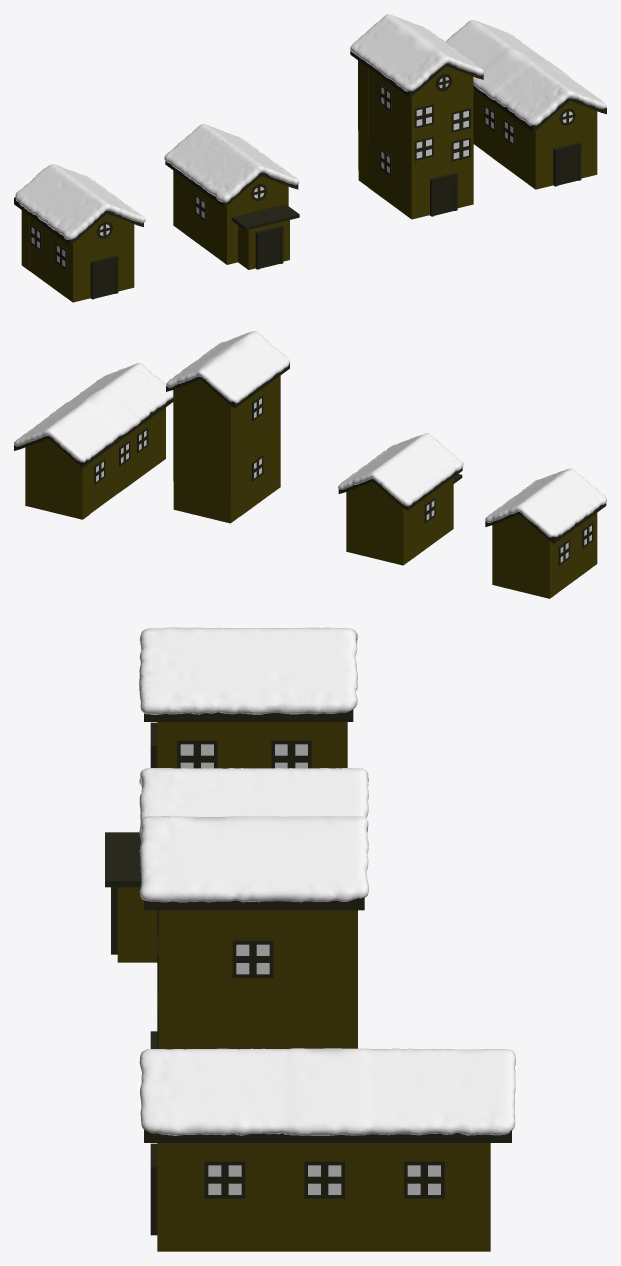
Rendered from modular_houses (1).fbx.
The picture shows the model from 3 angles, top to bottom: view 1: azimuth 30°, elevation 25°; view 2: azimuth 150°, elevation 25°; view 3: azimuth 270°, elevation 25°; orthographic projection. The views are drawn at different scales.
Parts seen in each view (by area): view 1: SnowBall.004, Cube.025, SnowBall.001, SnowBall.003, SnowBall.002, Cube.039, Cube, Cube.007, Cube.034, Cube.020, Cube.031, Cube.045 (+21 smaller); view 2: Cube.036, SnowBall.004, SnowBall.001, SnowBall.003, Cube.016, Cube.004, SnowBall.002, Cube.041, Cube.034, Cube.020, Cube.048, Cube.031 (+9 smaller); view 3: SnowBall.004, SnowBall.003, SnowBall.002, Cube.047, Cube.028, Cube.042, SnowBall.001, Cube.036, Cube.005, Cube.025, Cube.035, Cube.039 (+14 smaller).
Boxes of the visible parts, box(x1,y1,x2,y2) form: SnowBall.004: box(445, 20, 606, 125); Cube.025: box(403, 66, 473, 219); SnowBall.001: box(164, 124, 299, 202); SnowBall.003: box(350, 14, 484, 91); SnowBall.002: box(15, 164, 145, 239); Cube.039: box(527, 101, 597, 189); Cube: box(65, 214, 134, 302); Cube.007: box(219, 176, 288, 264); Cube.034: box(368, 124, 403, 213); Cube.020: box(183, 178, 218, 258); Cube.031: box(369, 68, 403, 148); Cube.045: box(492, 103, 527, 183); Cube.036: box(173, 379, 240, 523); SnowBall.004: box(14, 363, 173, 462); SnowBall.001: box(338, 433, 463, 506); SnowBall.003: box(166, 331, 289, 403); Cube.016: box(346, 482, 412, 565); Cube.004: box(492, 514, 557, 598); SnowBall.002: box(485, 468, 606, 537); Cube.041: box(25, 438, 89, 519); Cube.034: box(240, 432, 273, 516); Cube.020: box(413, 483, 446, 558); Cube.048: box(90, 437, 124, 513); Cube.031: box(241, 381, 273, 455); SnowBall.004: box(139, 1048, 515, 1135); SnowBall.003: box(139, 816, 368, 902); SnowBall.002: box(139, 627, 357, 714); Cube.047: box(319, 1143, 464, 1251); Cube.028: box(186, 910, 319, 1018); Cube.042: box(186, 1143, 319, 1251); SnowBall.001: box(139, 768, 368, 845); Cube.036: box(318, 910, 357, 1048); Cube.005: box(186, 722, 319, 768); Cube.025: box(158, 910, 187, 1049); Cube.035: box(186, 1019, 319, 1048); Cube.039: box(150, 1143, 186, 1251).
Bounding box in the file's own units: 1756 × 489 × 619.
